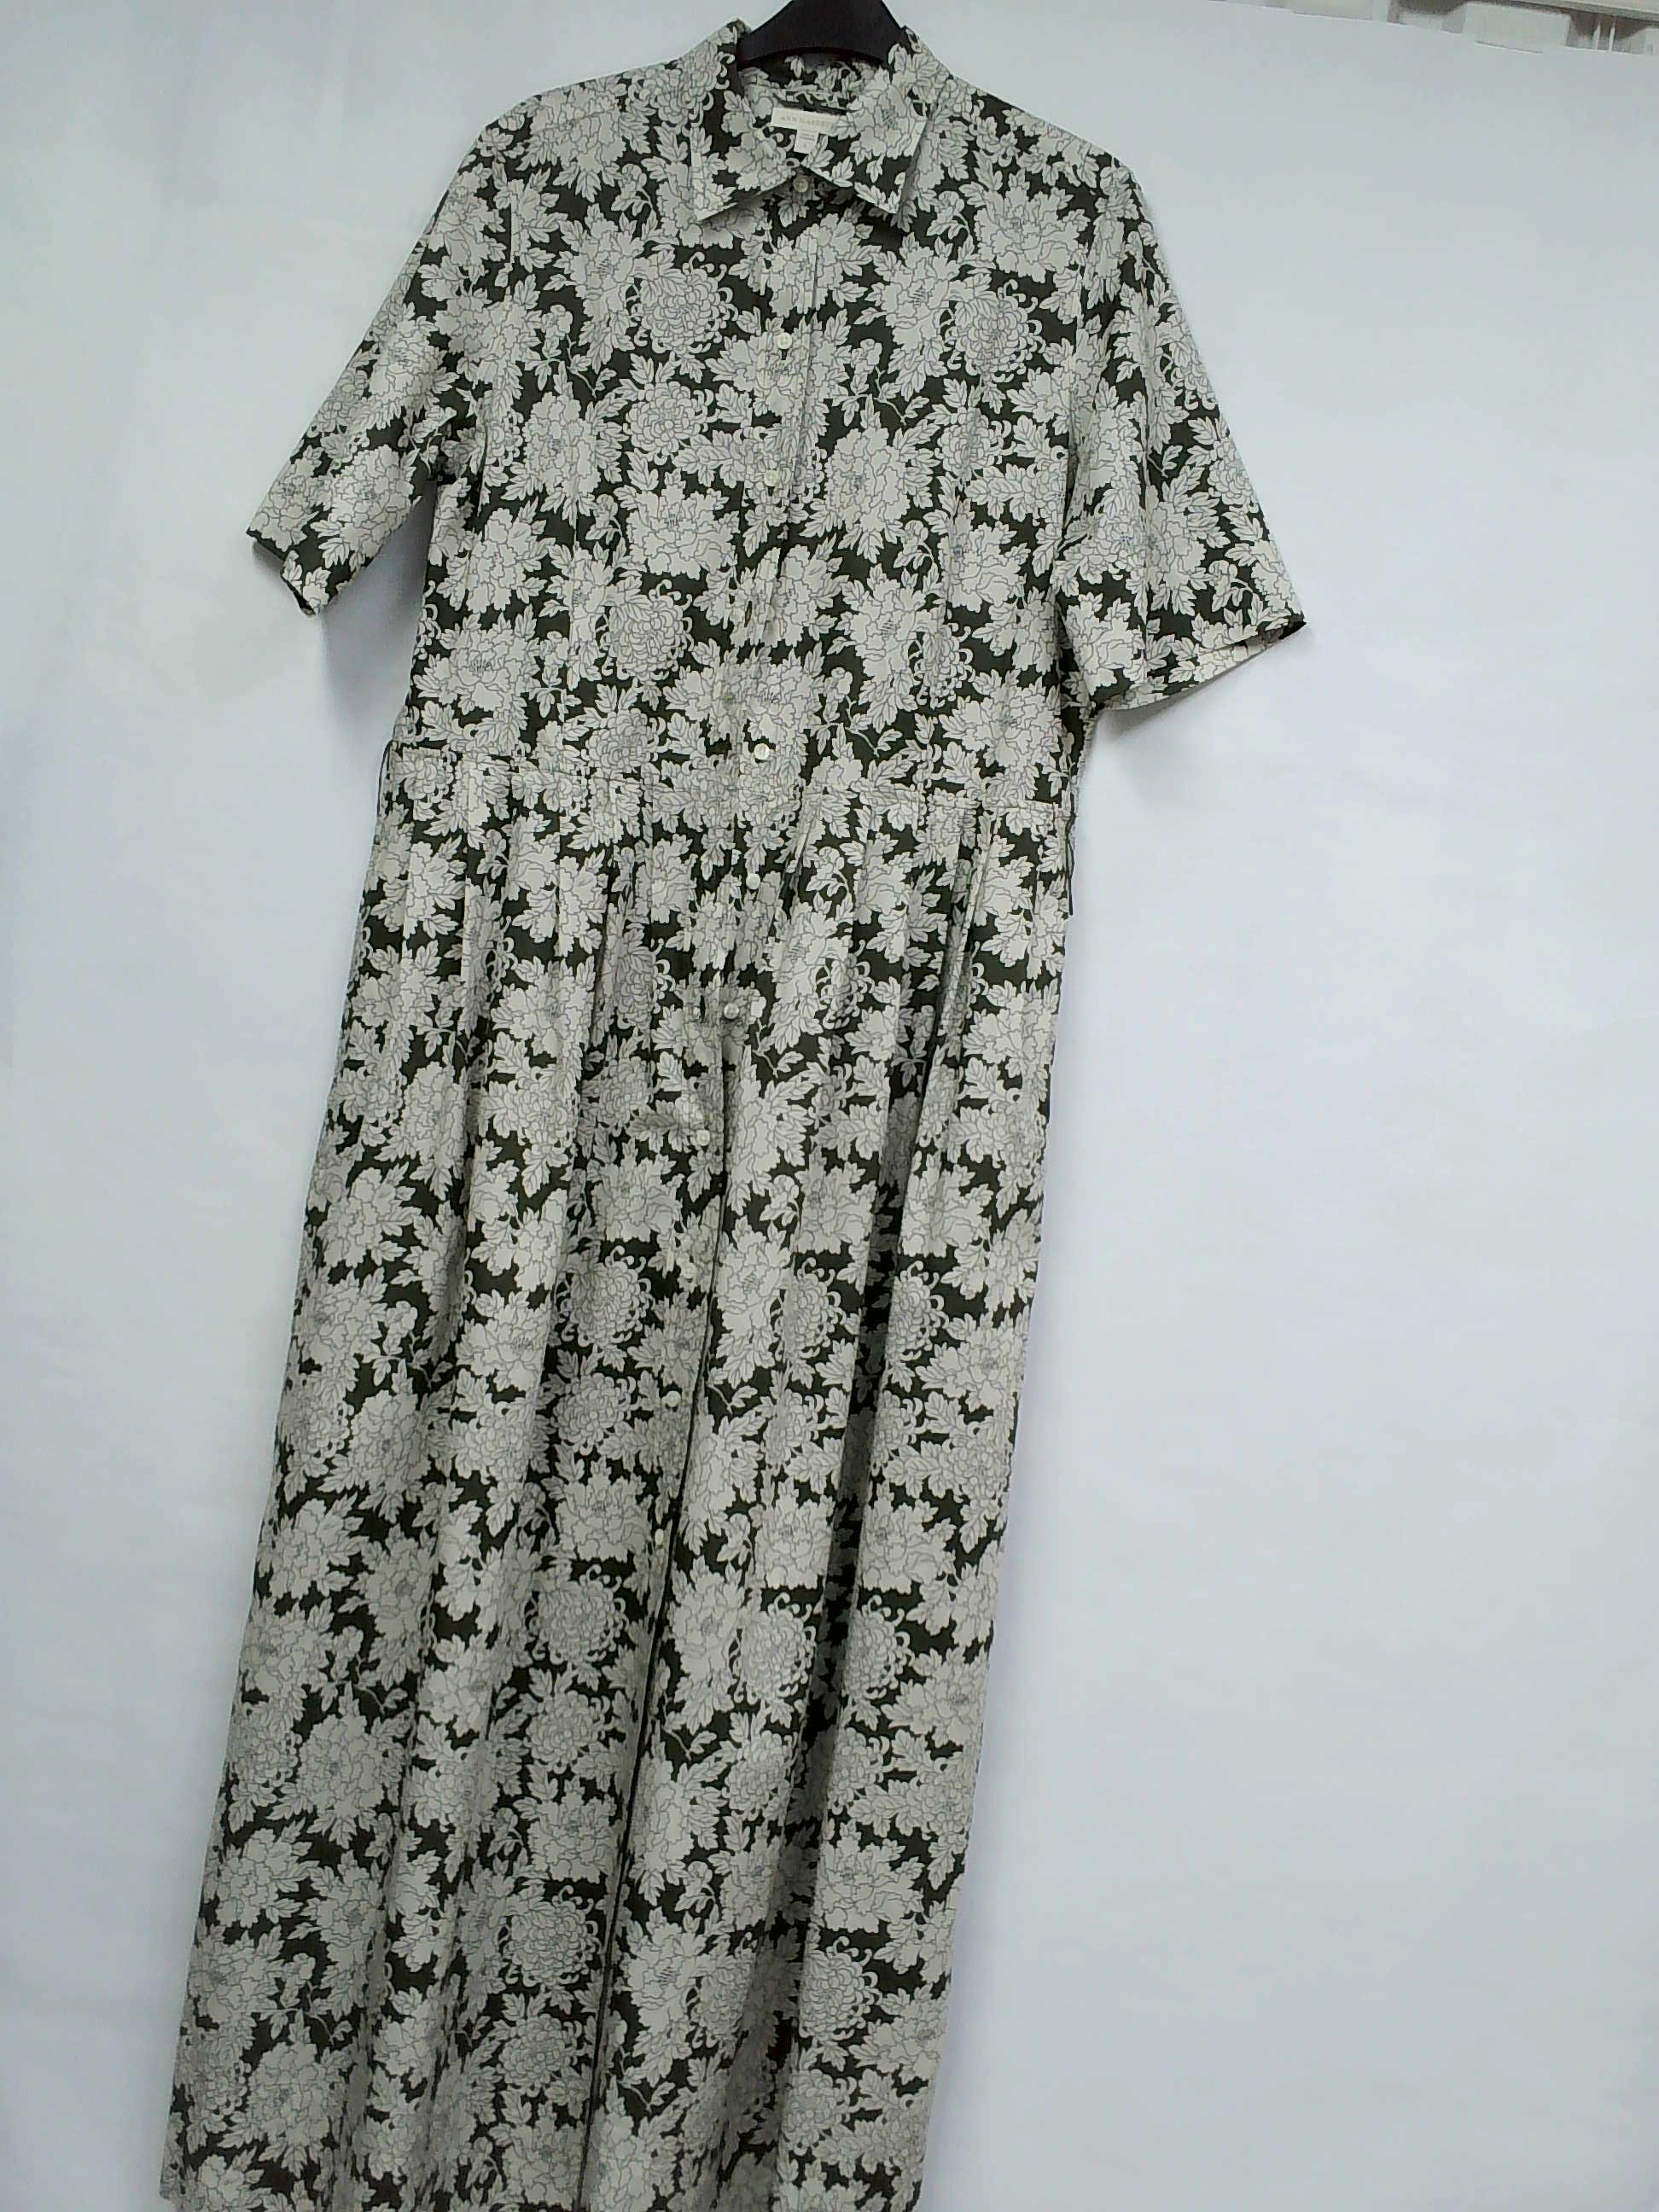seam: (694, 752, 809, 960)
